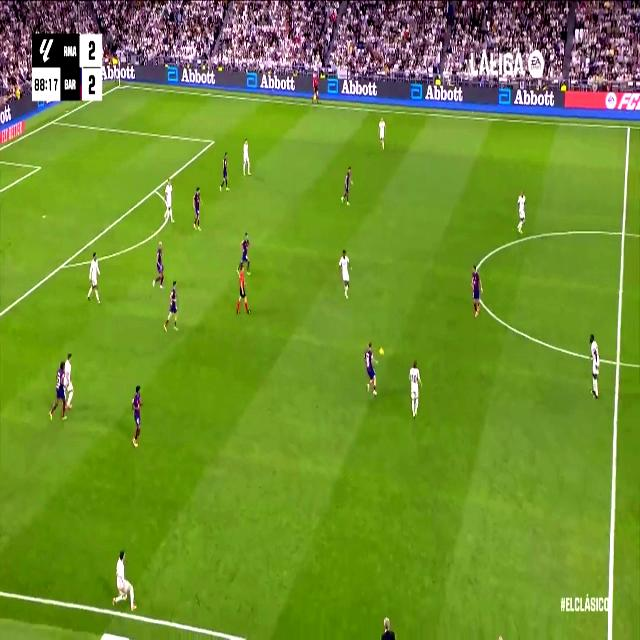bigarea_bottom_inner: (0, 302, 6, 326)
bigarea_top_inner: (210, 136, 214, 147)
bigarea_top_outter: (49, 114, 57, 127)
bottom_arc_area_intersection: (58, 256, 67, 274)
corner: (116, 80, 124, 90)
halfcircle_bottom: (614, 349, 624, 375)
halfcircle_top: (618, 222, 630, 244)
midline_top_intersection: (626, 122, 632, 133)
smallarea_top_inner: (37, 162, 41, 172)
top_arc_area_intersection: (151, 182, 159, 197)
